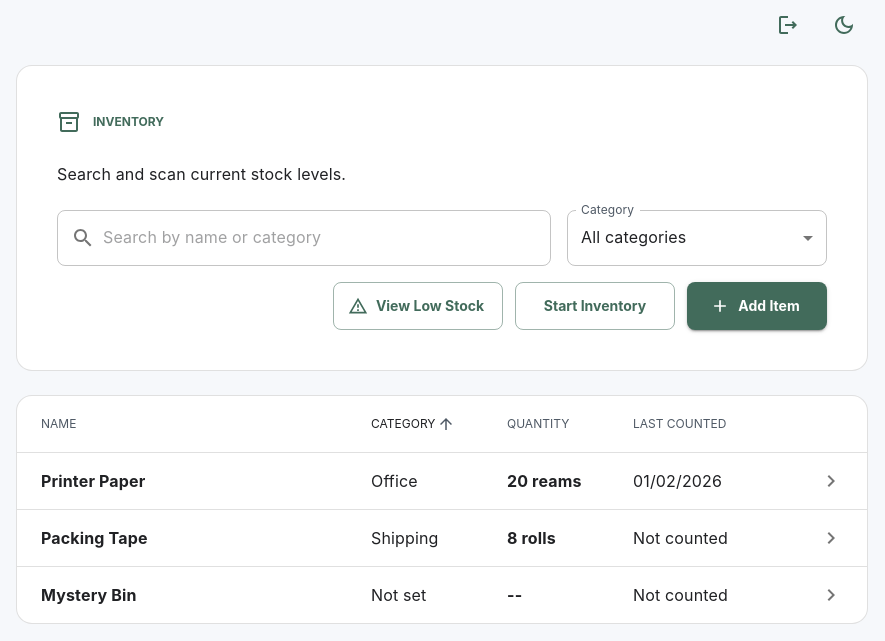
Test: HomePage › filters items by selected category
The width and height of the screenshot is (885, 641).
Expected: the text "Printer Paper" is shown, [41,471,145,491]
Press the mouse on the dropdown named "Category" at (634, 237), box [581,227,686,247]
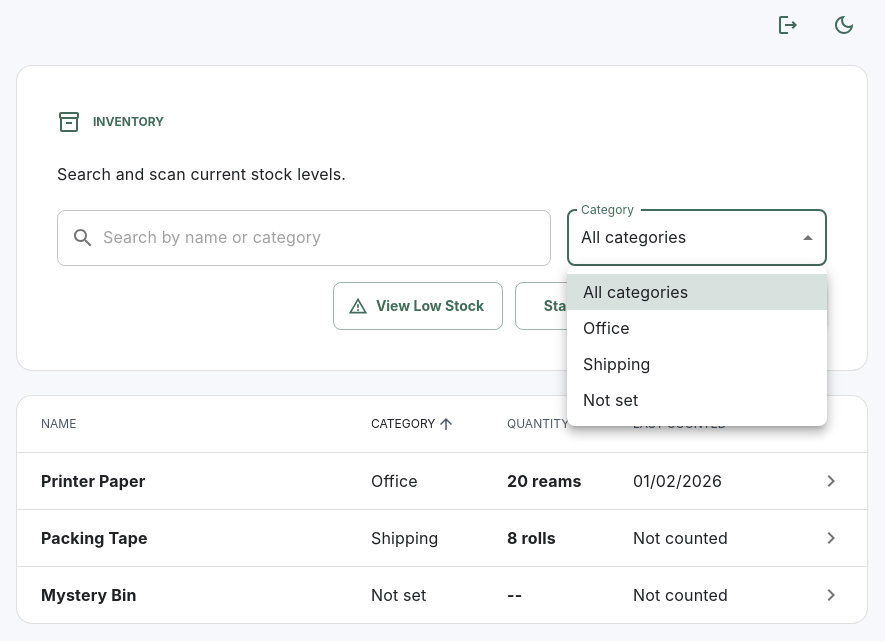
Expected: the option "All categories" is shown, [567,274,827,310]
Expected: the option "Office" is shown, [583,318,630,338]
Expected: the option "Shipping" is shown
Click the option "Shipping" at (617, 364), box [583,354,650,374]
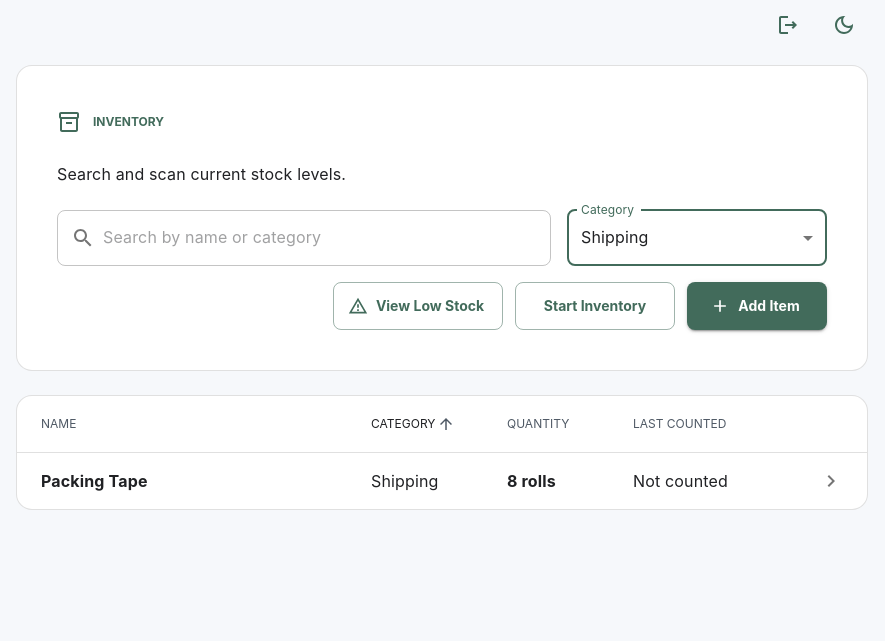
Expected: the text "Packing Tape" is shown, [41,471,148,491]
Expected: the link "Printer Paper" is gone
Expected: the link "Mystery Bin" is gone
